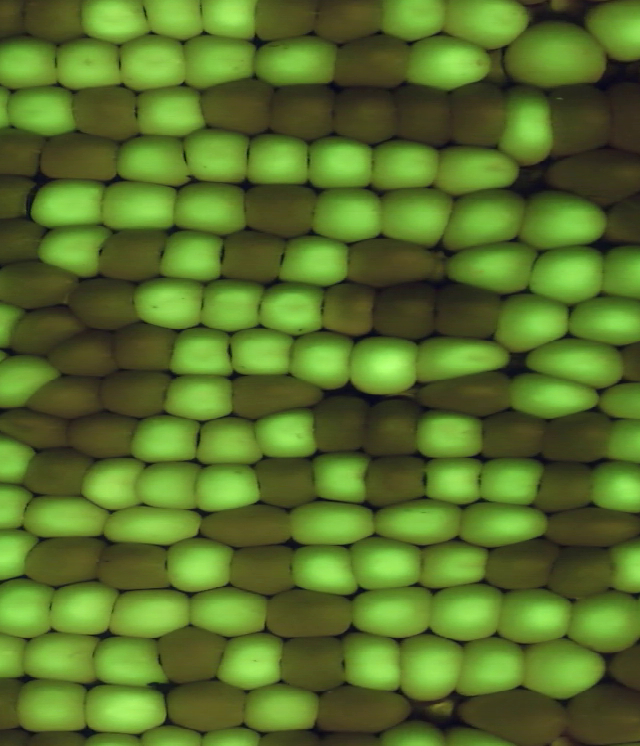fluorescent: (500, 18, 612, 89), (435, 177, 532, 257), (395, 30, 497, 96), (517, 188, 614, 256), (515, 635, 612, 702), (439, 239, 546, 299), (406, 330, 516, 387), (392, 630, 471, 707), (375, 179, 459, 250), (368, 493, 471, 549), (495, 79, 559, 169), (246, 33, 344, 91), (488, 290, 574, 356), (528, 240, 610, 309), (102, 584, 198, 642), (342, 329, 420, 400), (345, 583, 440, 641), (435, 1, 535, 56), (505, 366, 605, 421), (86, 629, 173, 692), (564, 587, 640, 659), (175, 34, 265, 94), (20, 629, 110, 689), (335, 627, 410, 699), (428, 143, 524, 199), (306, 182, 390, 245), (81, 679, 175, 735), (186, 582, 275, 641), (425, 579, 507, 643), (524, 338, 626, 389), (112, 30, 192, 95), (111, 130, 196, 191), (284, 539, 365, 603), (493, 584, 575, 647), (44, 580, 125, 643), (168, 177, 250, 239), (285, 499, 382, 551), (283, 328, 359, 394), (453, 634, 530, 699), (128, 274, 210, 335), (454, 501, 554, 551), (16, 491, 114, 542), (236, 680, 325, 736), (349, 532, 428, 595), (47, 32, 127, 94), (130, 79, 210, 141), (13, 673, 93, 735), (176, 127, 254, 190), (159, 535, 235, 599), (273, 231, 354, 291), (26, 174, 111, 231), (302, 132, 381, 193), (99, 504, 205, 549), (412, 404, 491, 464), (97, 178, 180, 235), (254, 278, 330, 340), (77, 454, 153, 516), (128, 457, 210, 514), (155, 226, 230, 288), (362, 137, 445, 193), (1, 82, 82, 139), (212, 629, 285, 692), (195, 276, 272, 335), (301, 447, 374, 508), (188, 458, 264, 516), (125, 412, 205, 467), (35, 222, 108, 282), (165, 322, 238, 381), (249, 405, 322, 464), (159, 372, 240, 425), (0, 350, 65, 416), (565, 292, 640, 349), (242, 130, 313, 189), (190, 412, 263, 469), (415, 537, 494, 589), (577, 1, 640, 66), (475, 455, 549, 510), (0, 31, 64, 94), (0, 576, 57, 644), (74, 1, 156, 48), (415, 454, 486, 508), (228, 325, 297, 380), (374, 1, 455, 46), (585, 456, 640, 516), (195, 1, 263, 47), (140, 1, 207, 44), (0, 524, 48, 584), (596, 241, 640, 303), (602, 532, 640, 599), (0, 429, 41, 487), (0, 480, 42, 535), (596, 379, 640, 428), (0, 627, 34, 685), (135, 722, 213, 746), (0, 297, 35, 350), (601, 417, 640, 464), (196, 724, 268, 746)
nonfluorescent: (450, 683, 576, 746), (536, 144, 640, 211), (337, 234, 445, 290), (311, 682, 416, 739), (159, 676, 255, 737), (543, 80, 617, 159), (18, 529, 115, 589), (224, 369, 329, 424), (153, 619, 235, 688), (556, 679, 640, 746), (235, 179, 324, 242), (327, 31, 415, 94), (194, 500, 297, 553), (427, 275, 506, 344), (262, 586, 358, 642), (481, 536, 566, 597), (197, 76, 279, 139), (544, 541, 622, 607), (540, 502, 640, 553), (34, 130, 125, 186), (414, 369, 515, 419), (66, 80, 146, 143), (329, 82, 405, 148), (214, 226, 293, 289), (537, 406, 616, 469), (445, 79, 512, 153), (5, 302, 90, 360), (91, 225, 171, 286), (273, 633, 349, 697), (19, 372, 114, 422), (391, 79, 458, 149), (67, 272, 140, 336), (265, 79, 337, 143), (97, 366, 179, 422), (16, 445, 98, 501), (63, 410, 147, 464), (40, 326, 123, 380), (310, 389, 374, 459), (369, 282, 443, 342), (0, 259, 82, 313), (223, 541, 299, 599), (359, 450, 431, 511), (93, 541, 175, 594), (251, 450, 320, 512), (527, 458, 599, 517), (358, 399, 423, 463), (476, 409, 553, 462), (107, 319, 181, 374), (315, 279, 381, 340), (0, 405, 77, 454), (310, 1, 388, 48), (597, 75, 640, 159), (249, 1, 320, 48), (20, 1, 88, 48), (597, 183, 640, 253), (0, 124, 47, 179), (0, 215, 47, 267), (605, 639, 640, 705), (0, 169, 37, 226), (0, 1, 33, 49)
